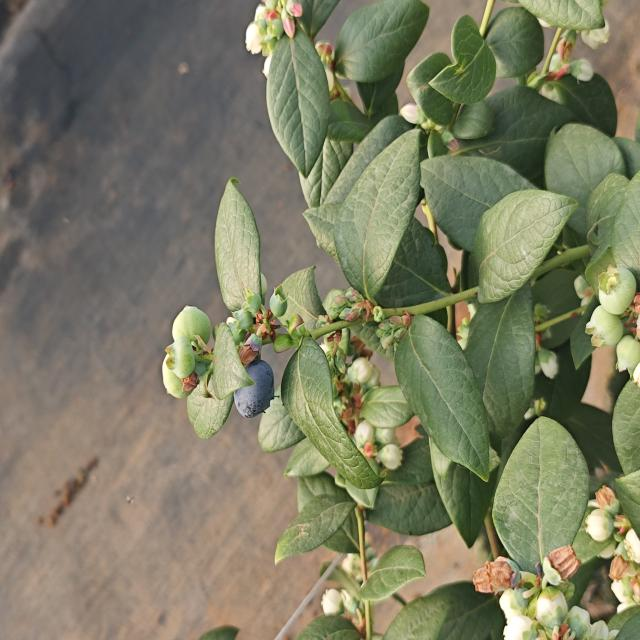ripe: (233, 358, 277, 418)
